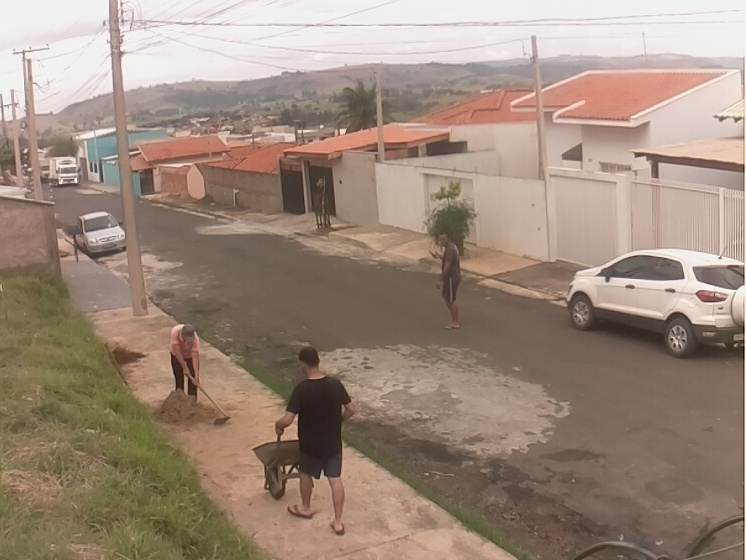person: (274, 346, 355, 536), (431, 230, 463, 330), (168, 322, 201, 400)
